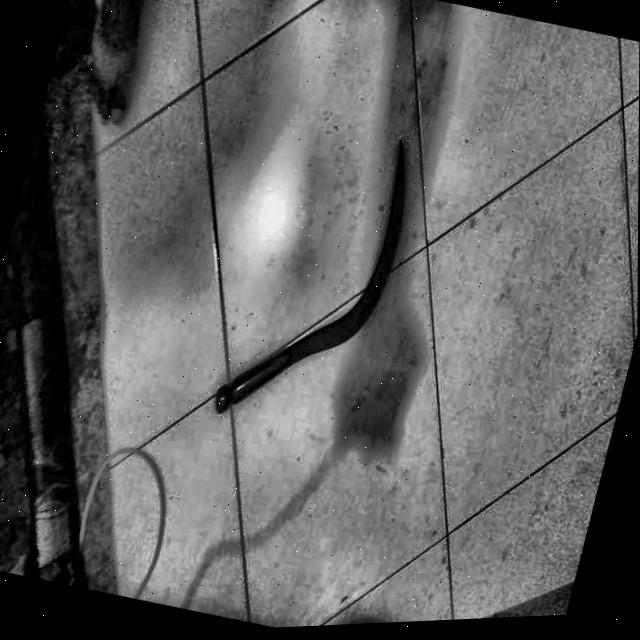pisau: (191, 90, 455, 461)
